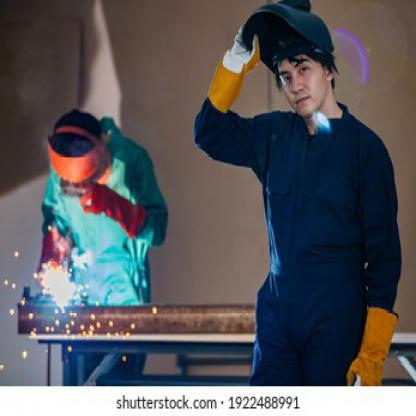with_gloves: (208, 24, 260, 113), (344, 303, 399, 383), (78, 180, 144, 238), (35, 229, 66, 273)
